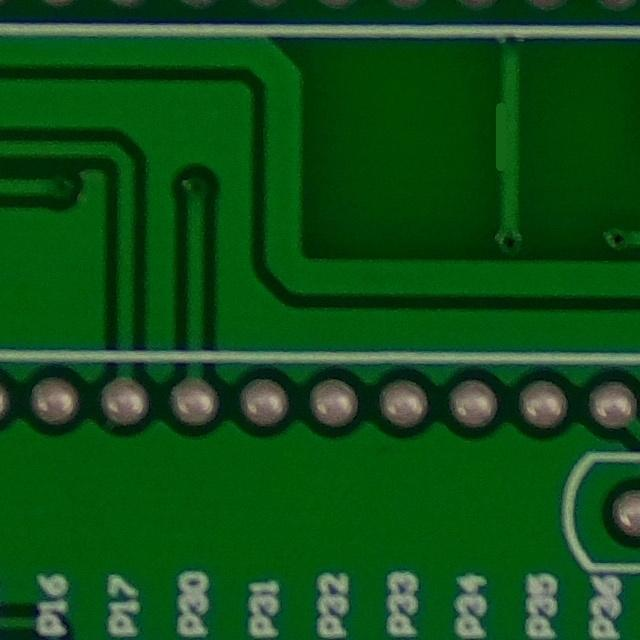spur: (481, 86, 530, 177)
